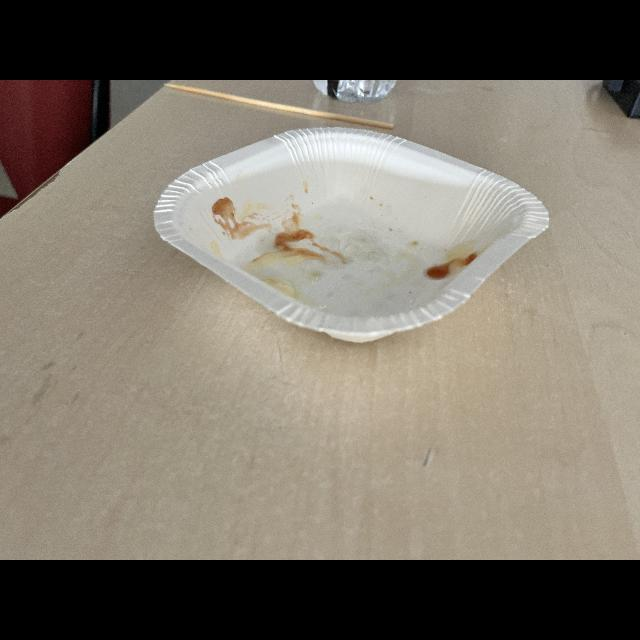cardboard_bowl: (150, 104, 554, 353)
